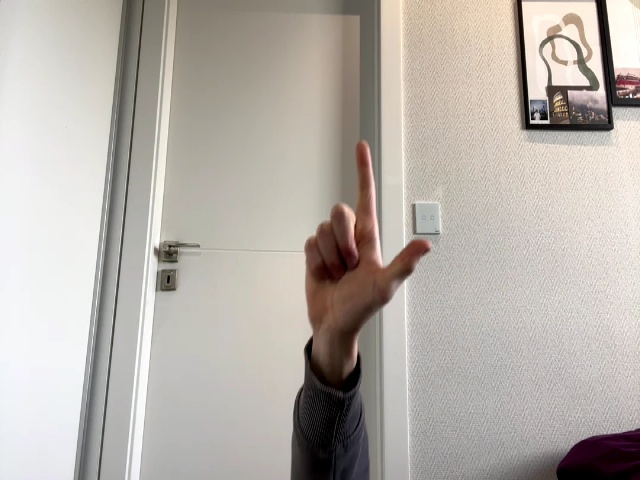L: (304, 141, 433, 346)
